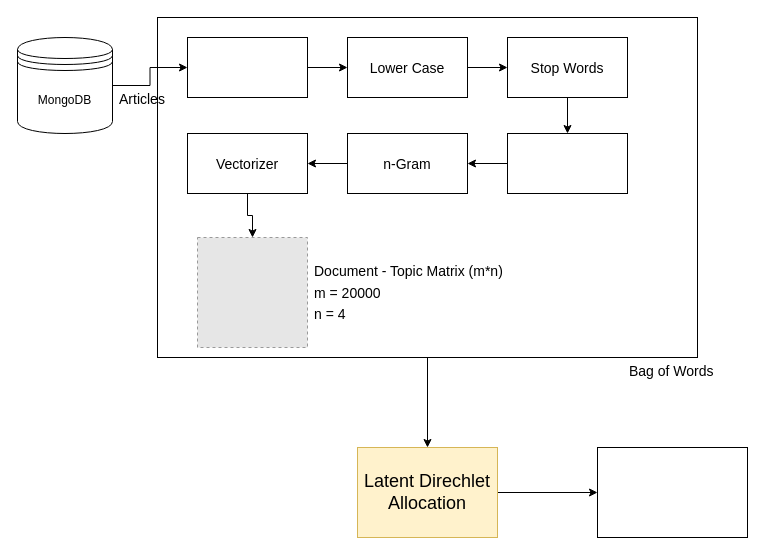
The diagram is 765 pixels wide and 555 high, and some of its shapes have lost their labels. Grey dashed boxes stand in for pictures. Here are the shapes that lost their labels. From the top down, the box of each, then its label:
(186, 36, 308, 98): Tokenize
(506, 132, 628, 194): Min/max Term Filtering
(596, 446, 748, 538): Topics
